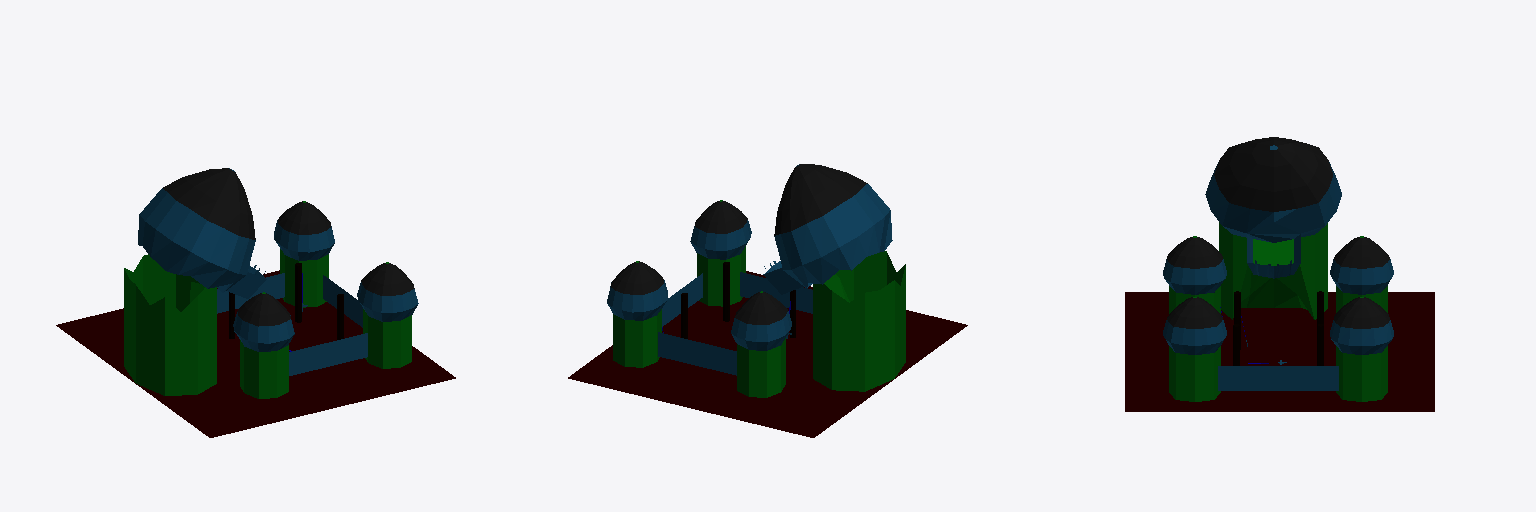
File: SwordsSmith1d.obj
The picture shows the model from 3 angles: view 1: azimuth 30°, elevation 25°; view 2: azimuth 150°, elevation 25°; view 3: azimuth 270°, elevation 25°; orthographic projection.
Parts seen in each view (by area): view 1: Plane, Cube, Plane.004, Plane.001, Plane.002, Plane.007, Plane.008, Plane.003; view 2: Plane, Cube, Plane.005, Plane.002, Plane.001, Plane.008, Plane.007, Plane.003; view 3: Cube, Plane, Plane.002, Plane.001, Plane.004, Plane.005, Plane.003.
Boxes of the visible parts, x1,y1,x2,y2 form: Plane: [124, 168, 266, 395]; Cube: [56, 270, 455, 437]; Plane.004: [233, 292, 294, 398]; Plane.001: [357, 262, 418, 368]; Plane.002: [274, 201, 334, 307]; Plane.007: [289, 333, 367, 375]; Plane.008: [217, 273, 284, 313]; Plane.003: [323, 275, 362, 327]; Plane: [763, 164, 905, 391]; Cube: [568, 271, 967, 437]; Plane.005: [731, 291, 791, 397]; Plane.002: [607, 261, 667, 367]; Plane.001: [690, 200, 751, 306]; Plane.008: [658, 332, 736, 375]; Plane.007: [740, 272, 812, 313]; Plane.003: [662, 273, 702, 326]; Cube: [1125, 292, 1434, 411]; Plane: [1205, 137, 1341, 319]; Plane.002: [1330, 297, 1393, 401]; Plane.001: [1163, 297, 1226, 401]; Plane.004: [1163, 236, 1226, 313]; Plane.005: [1330, 236, 1393, 312]; Plane.003: [1218, 366, 1338, 390].
Bounding box in the file's own units: 5.5 × 4.11 × 5.98.